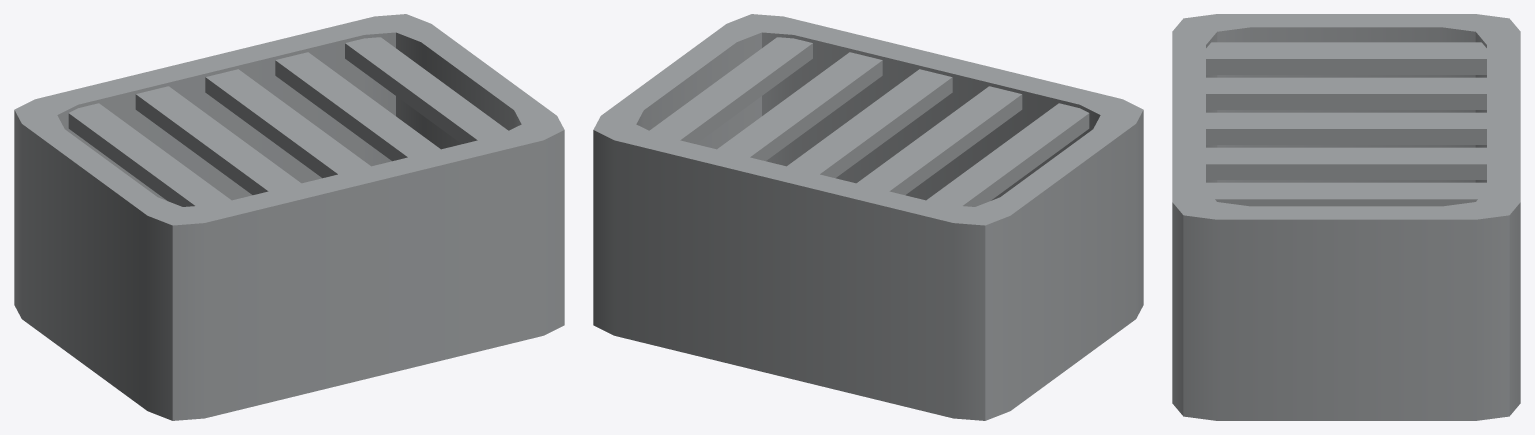
The model's file is SM_ventilation.fbx.
The picture shows the model from 3 angles, left to right: view 1: azimuth 30°, elevation 25°; view 2: azimuth 150°, elevation 25°; view 3: azimuth 270°, elevation 25°; orthographic projection. The views are drawn at different scales.
Parts seen in each view (by area): view 1: Object32429; view 2: Object32429; view 3: Object32429.
Part boxes in pixels (<box>): Object32429: <box>14,14,564,420</box>; Object32429: <box>593,14,1143,420</box>; Object32429: <box>1172,14,1520,420</box>.
Bounding box in the file's own units: 50.12 × 22.86 × 35.87.
